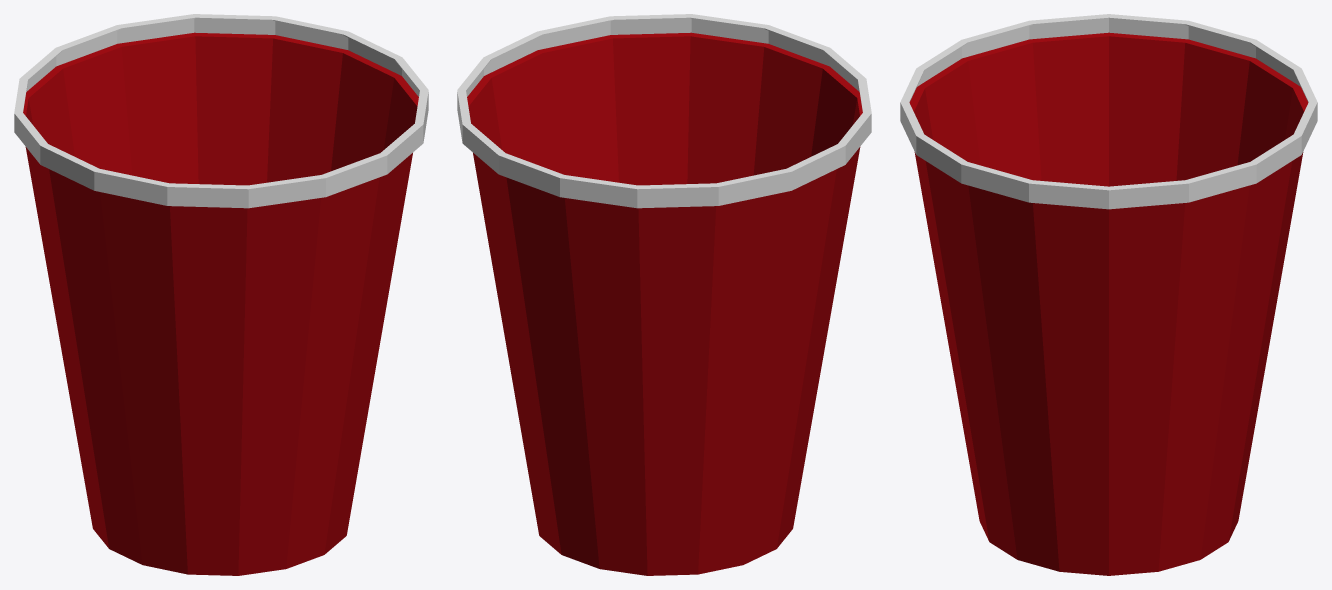
The model's file is vasorojoparty.fbx.
3 renders of one model, left to right at view 1: azimuth 30°, elevation 25°; view 2: azimuth 150°, elevation 25°; view 3: azimuth 270°, elevation 25°, orthographic.
Parts seen in each view (by area): view 1: Circle; view 2: Circle; view 3: Circle.
Part boxes in pixels (x1,y1,x2,y2): Circle: (14, 14, 428, 575); Circle: (457, 14, 871, 575); Circle: (900, 14, 1317, 575).
Size of the model in its own units: 405 by 449 by 405.
